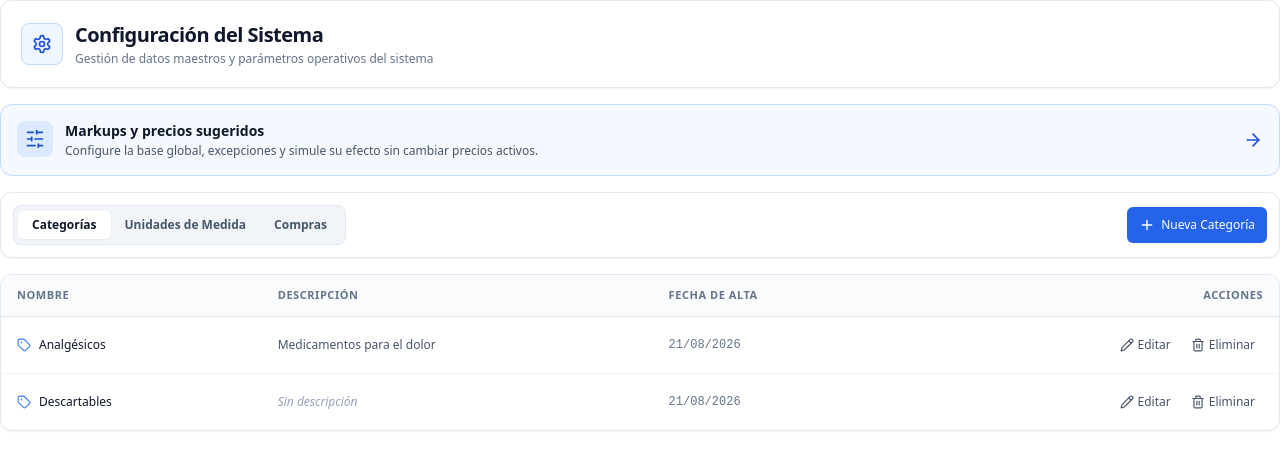
Scenario: SettingsPage master catalog management › Error and Empty States › displays empty state when units list is empty
The image size is (1280, 465).
Expected: the heading "Configuración del Sistema" is shown, [75, 21, 323, 48]
Click the tab "Unidades de Medida": [185, 225] box [110, 211, 260, 239]
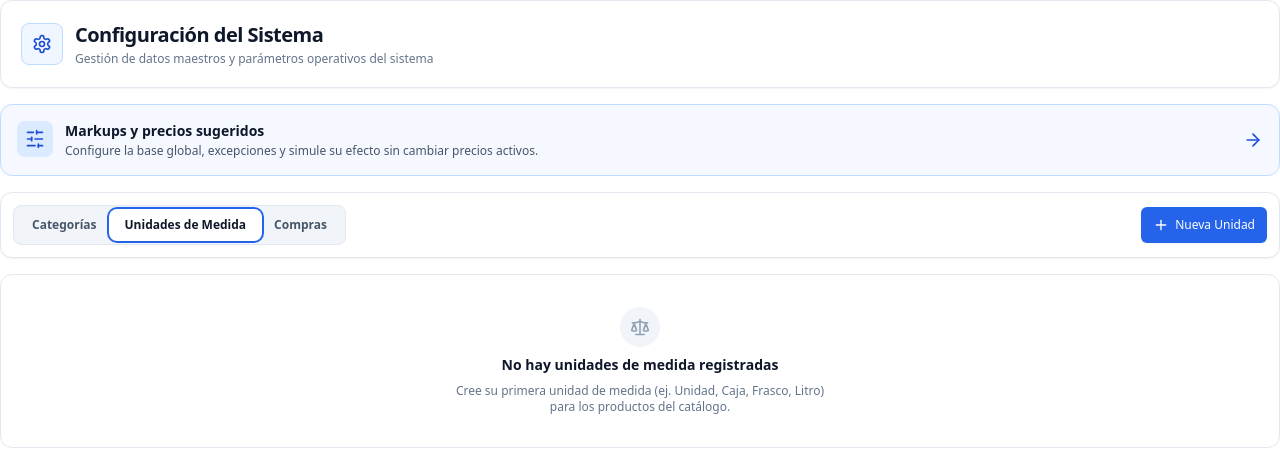
Result: the heading "No hay unidades de medida registradas" is shown at [502, 355, 778, 374]
